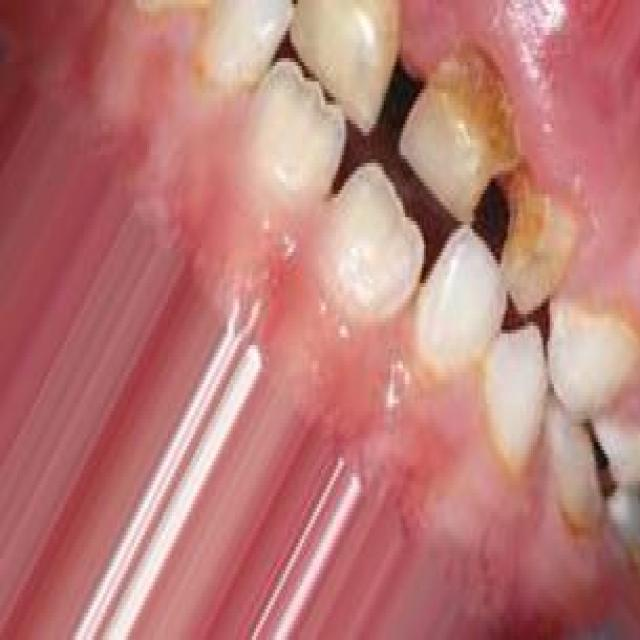caries: (402, 26, 515, 205), (494, 169, 580, 301)
